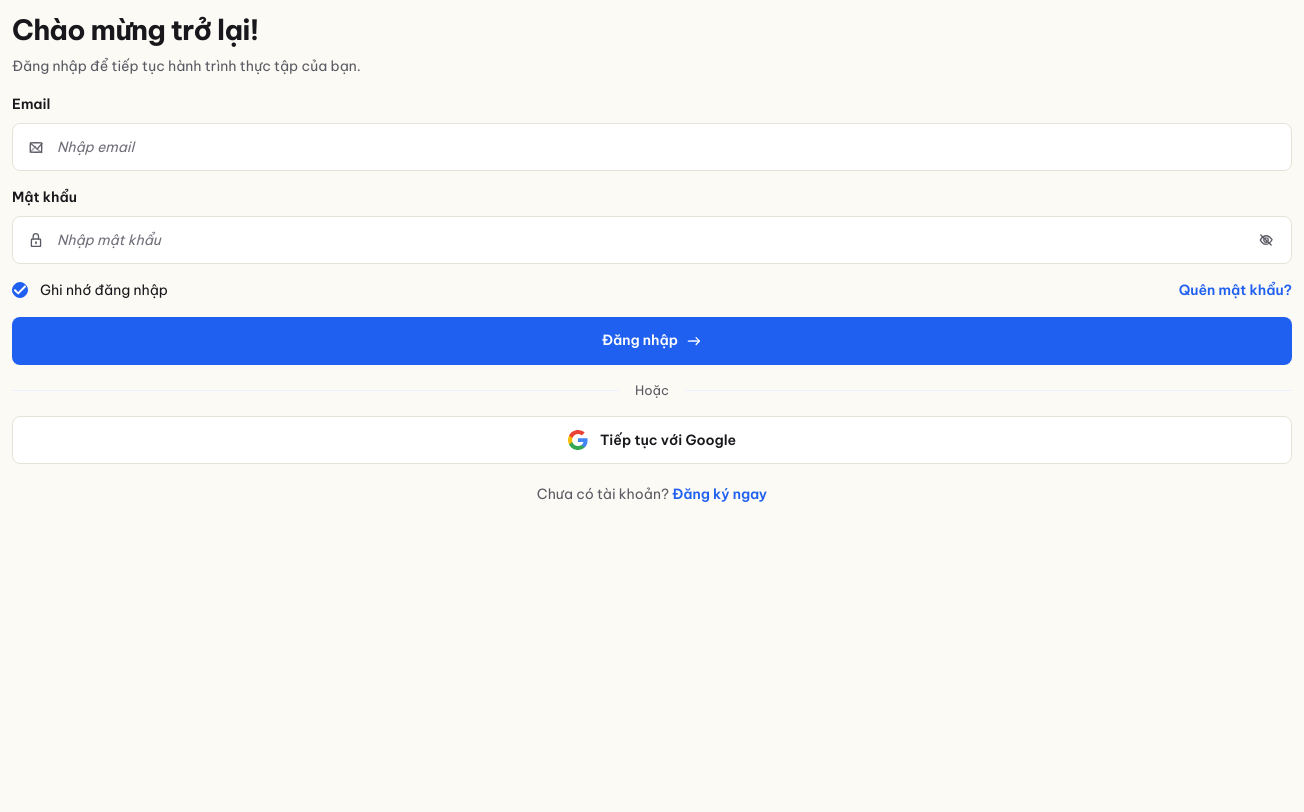
LoginForm › bắt buộc nhập: submit rỗng → lỗi inline tiếng Việt ở 2 trường, focus vào trường đầu
Click the button "Đăng nhập" at {"x": 652, "y": 341}, box [12, 317, 1292, 365]
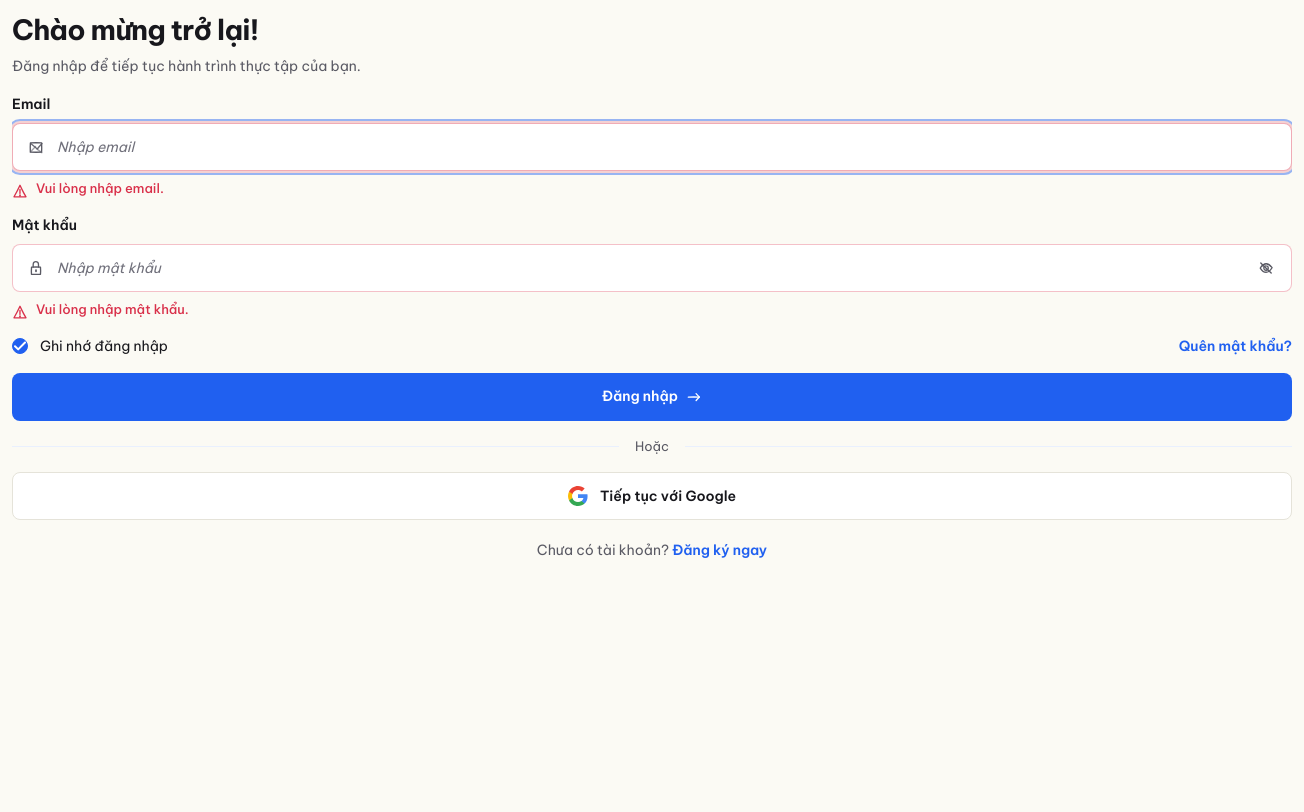
Now the text "Vui lòng nhập email." is shown, box [12, 180, 164, 199]
Now the text "Vui lòng nhập mật khẩu." is shown, box [12, 301, 189, 320]
